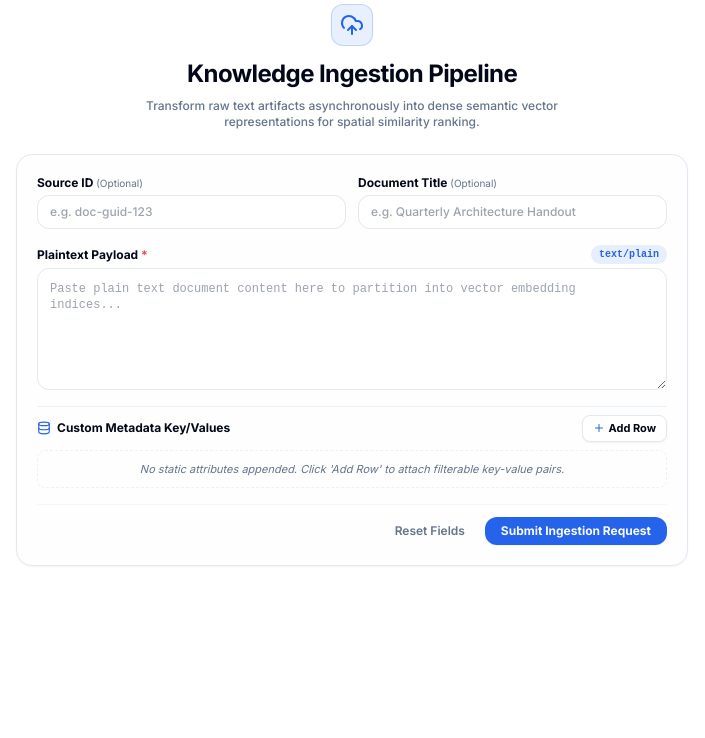
Test: IngestForm Component › submits successfully when plain text content is filled
Step 1. Replace the text in the text box with placeholder "Paste plain text document content here" with "Valid cloud document chunk payload" → (352, 329), box [37,268,667,390]
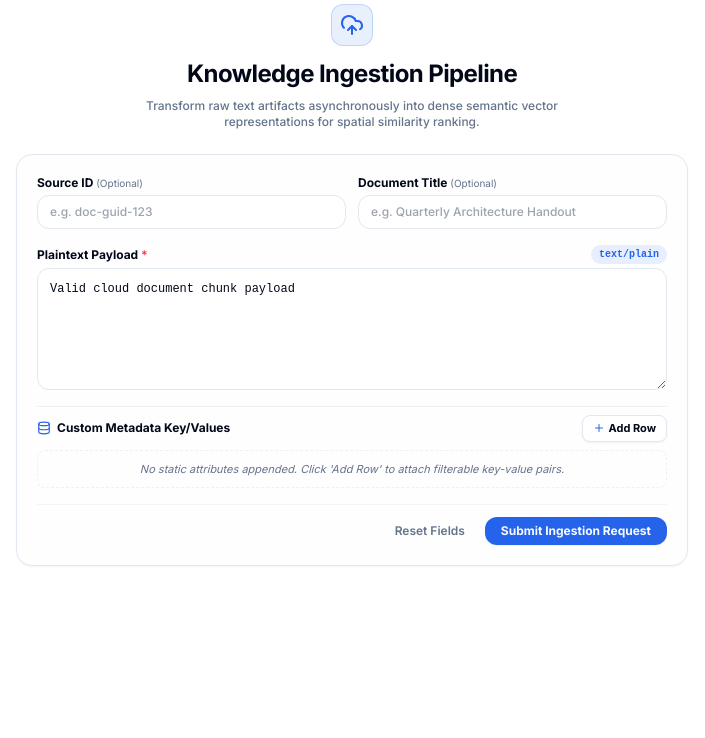
Step 2. Click the button "Submit Ingestion Request" → (576, 531), box [485,517,667,545]
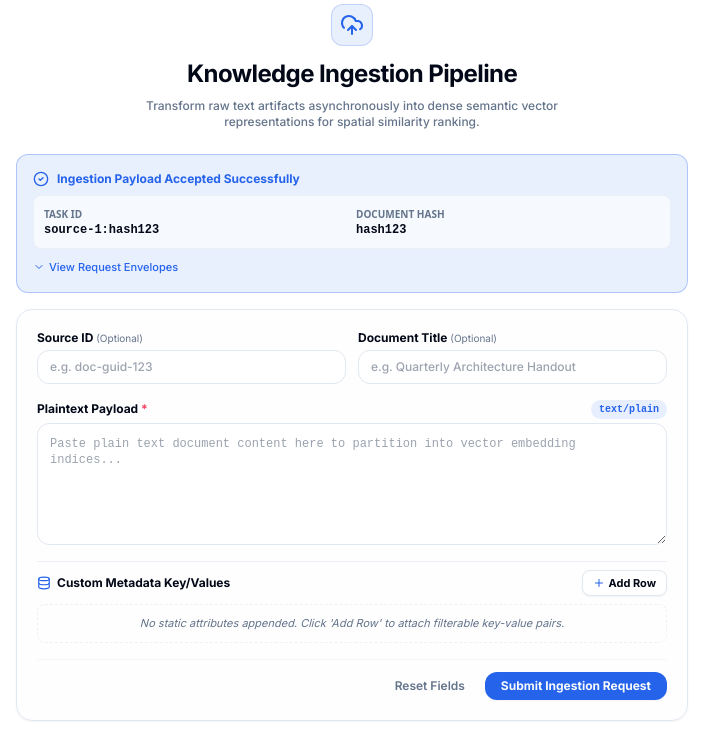
Check: the text "Ingestion Payload Accepted Successfully" is shown, box [57,171,300,187]
Check: the text "source-1:hash123" is shown, box [44,223,159,237]
